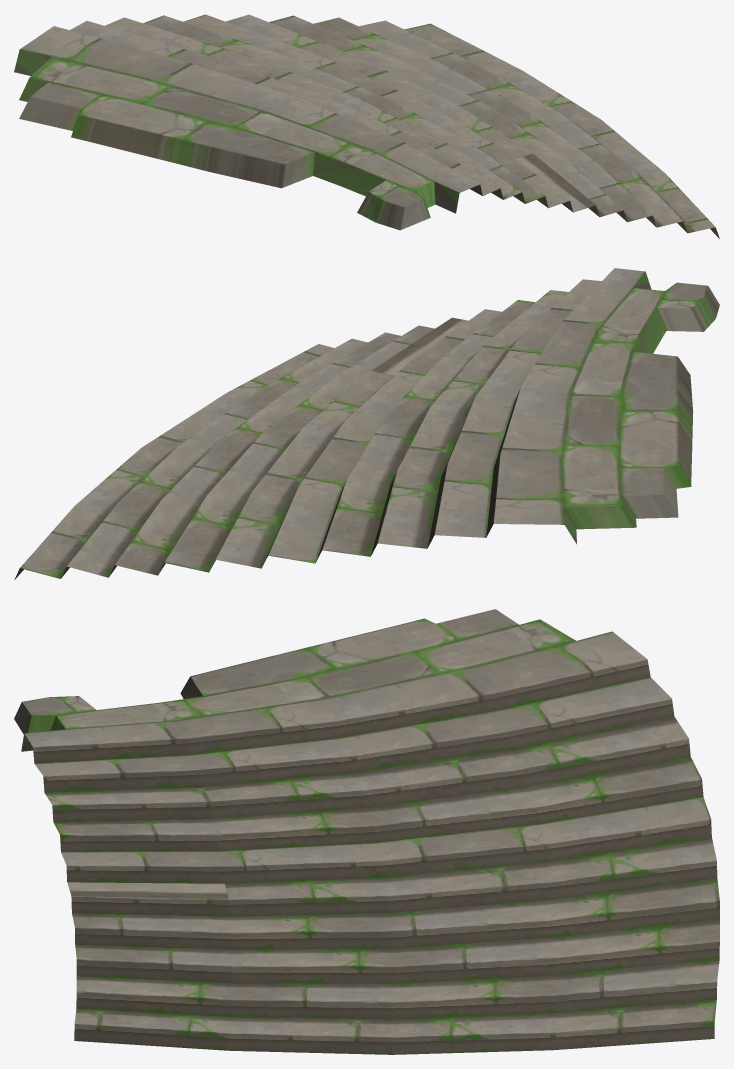
File: zc_zhanchang001_louti002_55_46_2831out.fbx
3 renders of one model, top to bottom at view 1: azimuth 30°, elevation 25°; view 2: azimuth 150°, elevation 25°; view 3: azimuth 270°, elevation 25°, orthographic. The views are drawn at different scales.
Parts seen in each view (by area): view 1: zc_zhanchang001_louti002; view 2: zc_zhanchang001_louti002; view 3: zc_zhanchang001_louti002.
Part boxes in pixels (x1,y1,x2,y2): zc_zhanchang001_louti002: (14, 14, 719, 238); zc_zhanchang001_louti002: (14, 268, 719, 579); zc_zhanchang001_louti002: (14, 609, 719, 1054).
Size of the model in its own units: 8.21 by 1.9 by 8.09.
